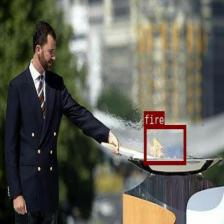fire: (144, 124, 185, 164)
